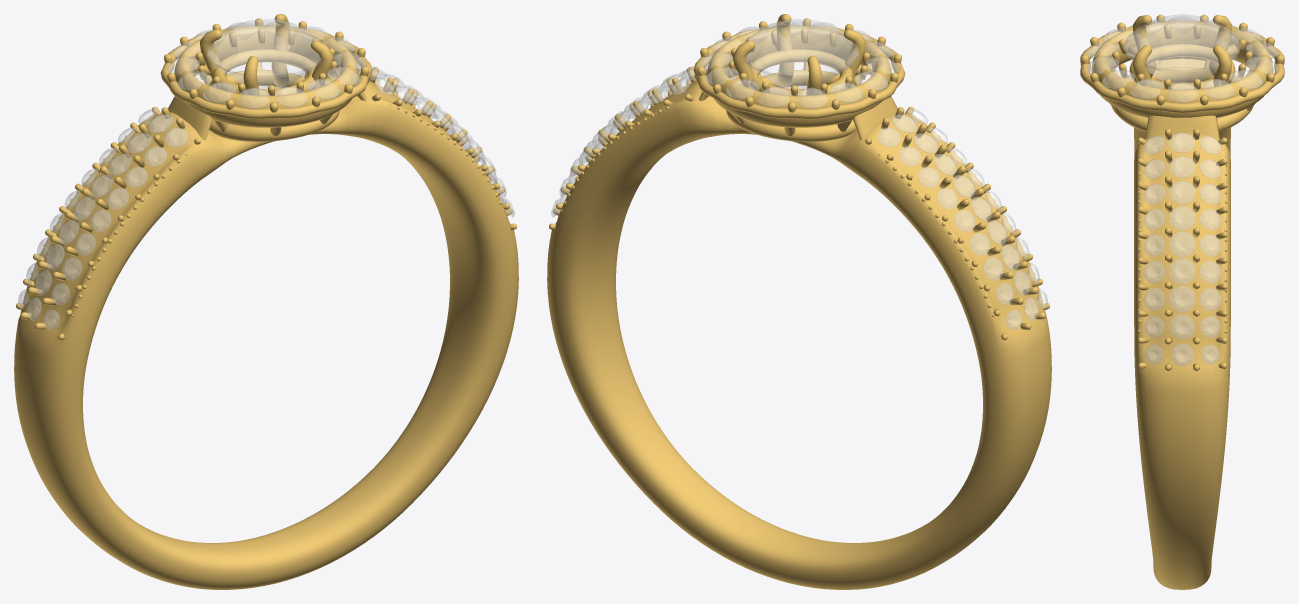
File: marcely_ring.glb
The picture shows the model from 3 angles, left to right: view 1: azimuth 30°, elevation 25°; view 2: azimuth 150°, elevation 25°; view 3: azimuth 270°, elevation 25°; orthographic projection.
Visible parts, largest first — view 1: Marcely_Ring_Metal, Marcely_Ring_Gems; view 2: Marcely_Ring_Metal, Marcely_Ring_Gems; view 3: Marcely_Ring_Metal, Marcely_Ring_Gems.
Part boxes in pixels (x1,y1,x2,y2): Marcely_Ring_Metal: (14, 14, 518, 589); Marcely_Ring_Gems: (18, 19, 514, 329); Marcely_Ring_Metal: (547, 14, 1051, 589); Marcely_Ring_Gems: (551, 19, 1047, 329); Marcely_Ring_Metal: (1080, 14, 1284, 589); Marcely_Ring_Gems: (1086, 14, 1278, 366).
Bounding box in the file's own units: 1.95 × 2.11 × 0.7277.
